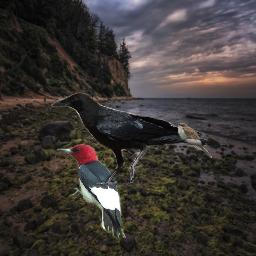Crow: (51, 91, 207, 185)
Cuckoo: (176, 123, 212, 158)
Woodpecker: (56, 144, 128, 238)
